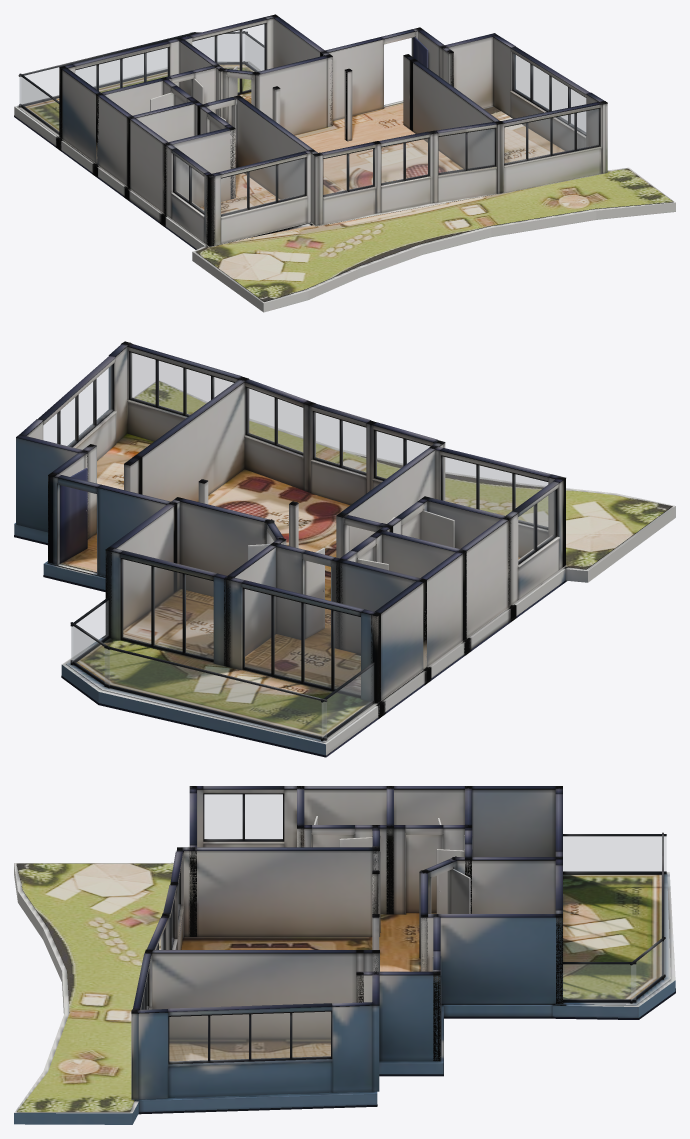
3 renders of one model, top to bottom at view 1: azimuth 30°, elevation 25°; view 2: azimuth 150°, elevation 25°; view 3: azimuth 270°, elevation 25°, orthographic. The views are drawn at different scales.
Visible parts, largest first — view 1: plan, glass5_m, glass7_m, railg0_m, glass1_m, glass0_m, glass6_m, glass4_m, glass2_m, glass3_m, railg6_m, glass8_m (+2 smaller); view 2: plan, glass0_m, railg0_m, glass1_m, glass7_m, glass5_m, glass4_m, glass6_m, glass3_m, railg6_m, glass8_m, glass2_m (+2 smaller); view 3: plan, glass6_m, railg6_m, glass8_m, railg5_m, railg4_m.
Boxes of the visible parts, x1,y1,x2,y2 form: plan: (14, 14, 675, 312); glass5_m: (504, 109, 598, 163); glass7_m: (221, 158, 304, 214); railg0_m: (19, 48, 166, 104); glass1_m: (192, 24, 264, 92); glass0_m: (75, 48, 167, 92); glass6_m: (514, 54, 585, 133); glass4_m: (439, 129, 494, 172); glass2_m: (323, 149, 373, 194); glass3_m: (381, 139, 428, 183); railg6_m: (20, 77, 58, 131); glass8_m: (175, 156, 203, 211); plan: (14, 341, 675, 757); glass0_m: (244, 589, 360, 695); railg0_m: (105, 648, 326, 737); glass1_m: (122, 559, 213, 659); glass7_m: (443, 457, 547, 527); glass5_m: (131, 353, 233, 414); glass4_m: (247, 388, 302, 452); glass6_m: (43, 365, 111, 446); glass3_m: (314, 412, 365, 472); railg6_m: (322, 665, 373, 737); glass8_m: (518, 490, 555, 561); glass2_m: (376, 431, 429, 478); plan: (14, 786, 675, 1124); glass6_m: (169, 1012, 330, 1061); railg6_m: (563, 836, 666, 871); glass8_m: (204, 794, 282, 839); railg5_m: (563, 964, 635, 999); railg4_m: (631, 940, 664, 1000).
Size of the model in its own units: 14.07 by 2.62 by 15.7.
2 materials, 1 textured.
